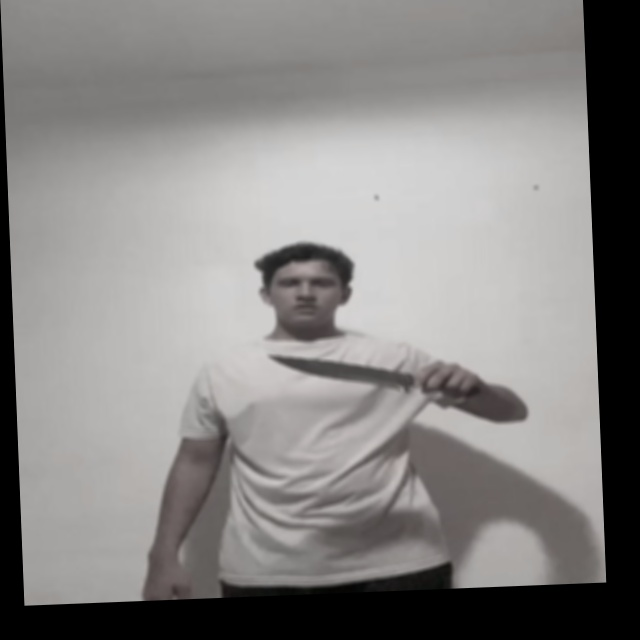Sharp-Object: (271, 349, 412, 399)
